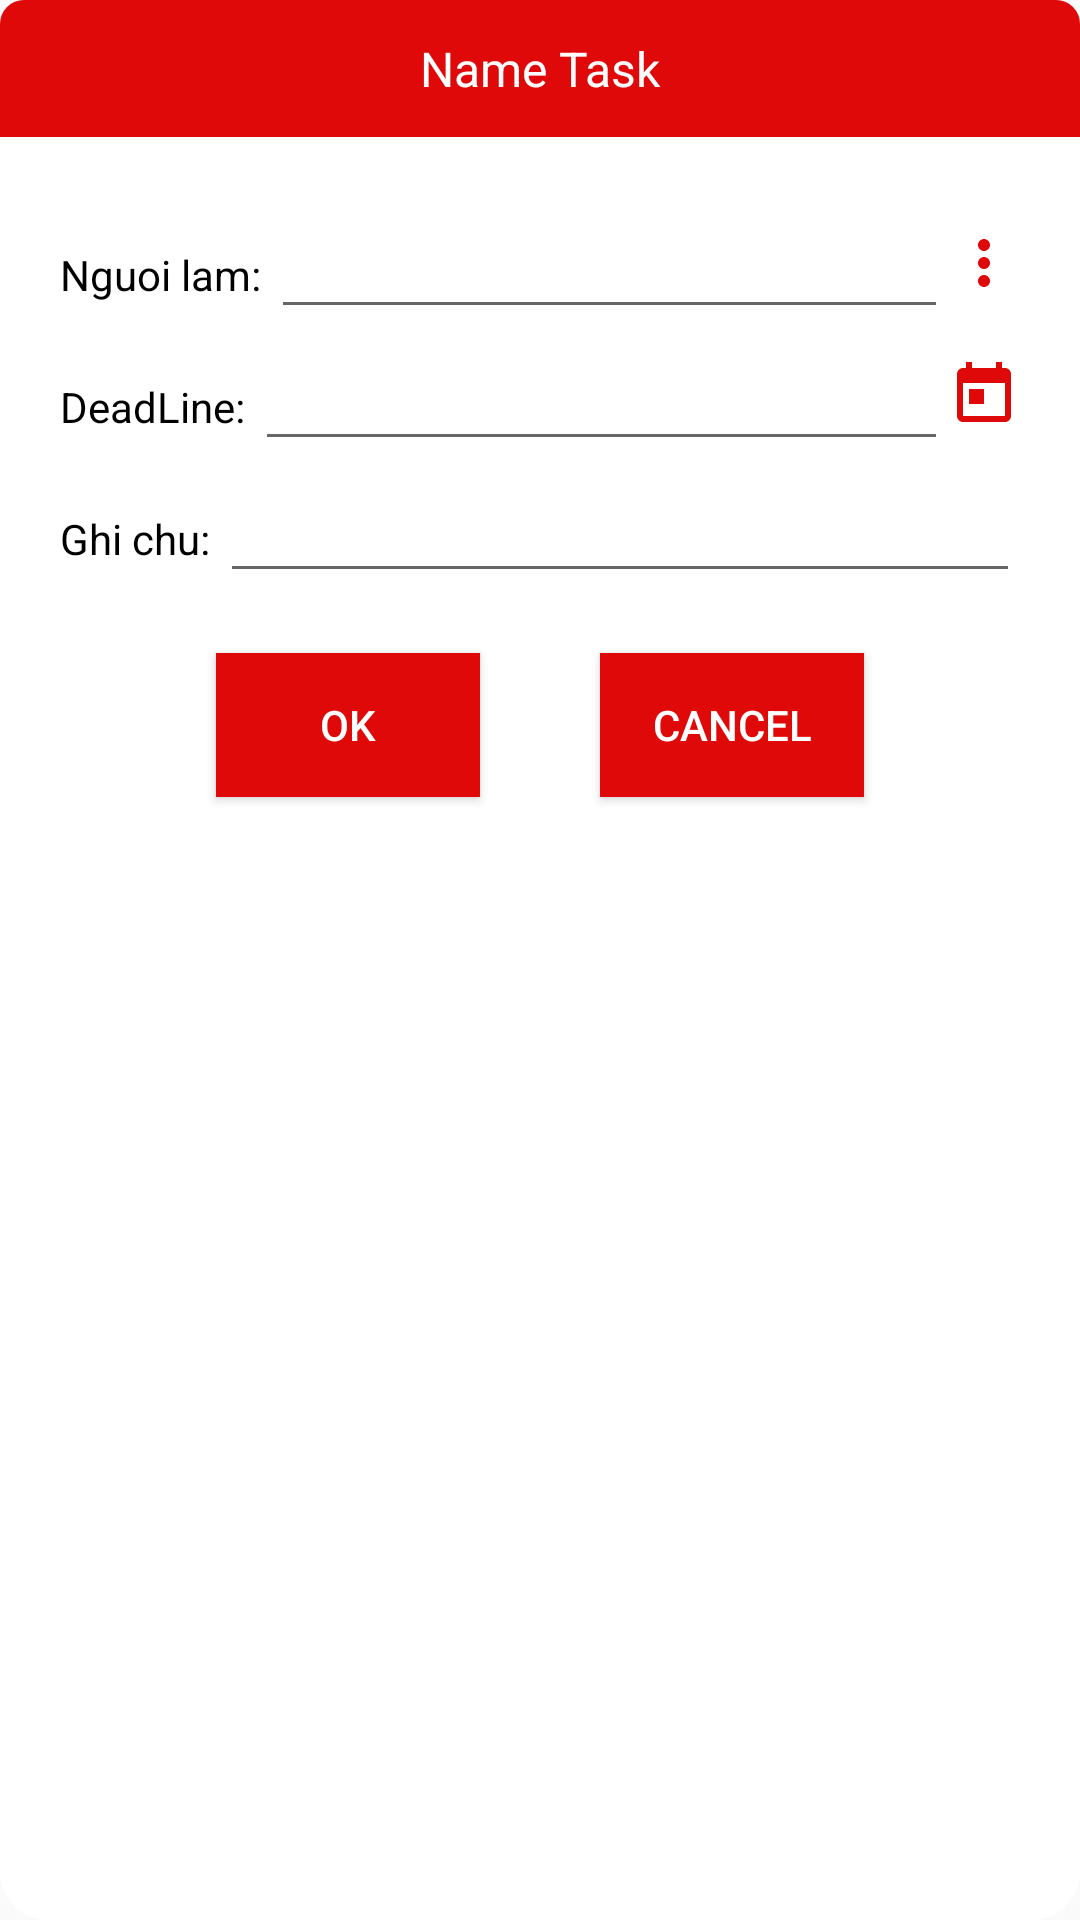

Where icons sit on this 1080 × 1920 app screen, as [left=x1, top=y1, right=x2, bottom=y2]:
calendar: [left=957, top=362, right=1011, bottom=422]
more: [left=978, top=239, right=990, bottom=287]
